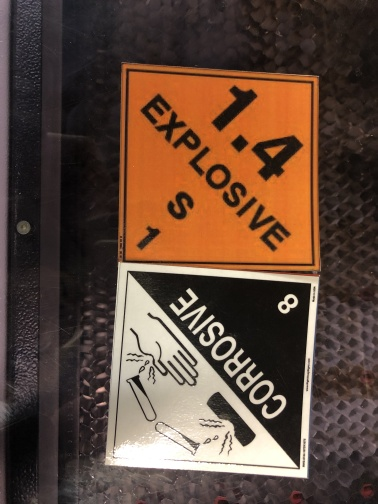Corrosive: (103, 262, 319, 480)
Explosive: (116, 61, 322, 272)
